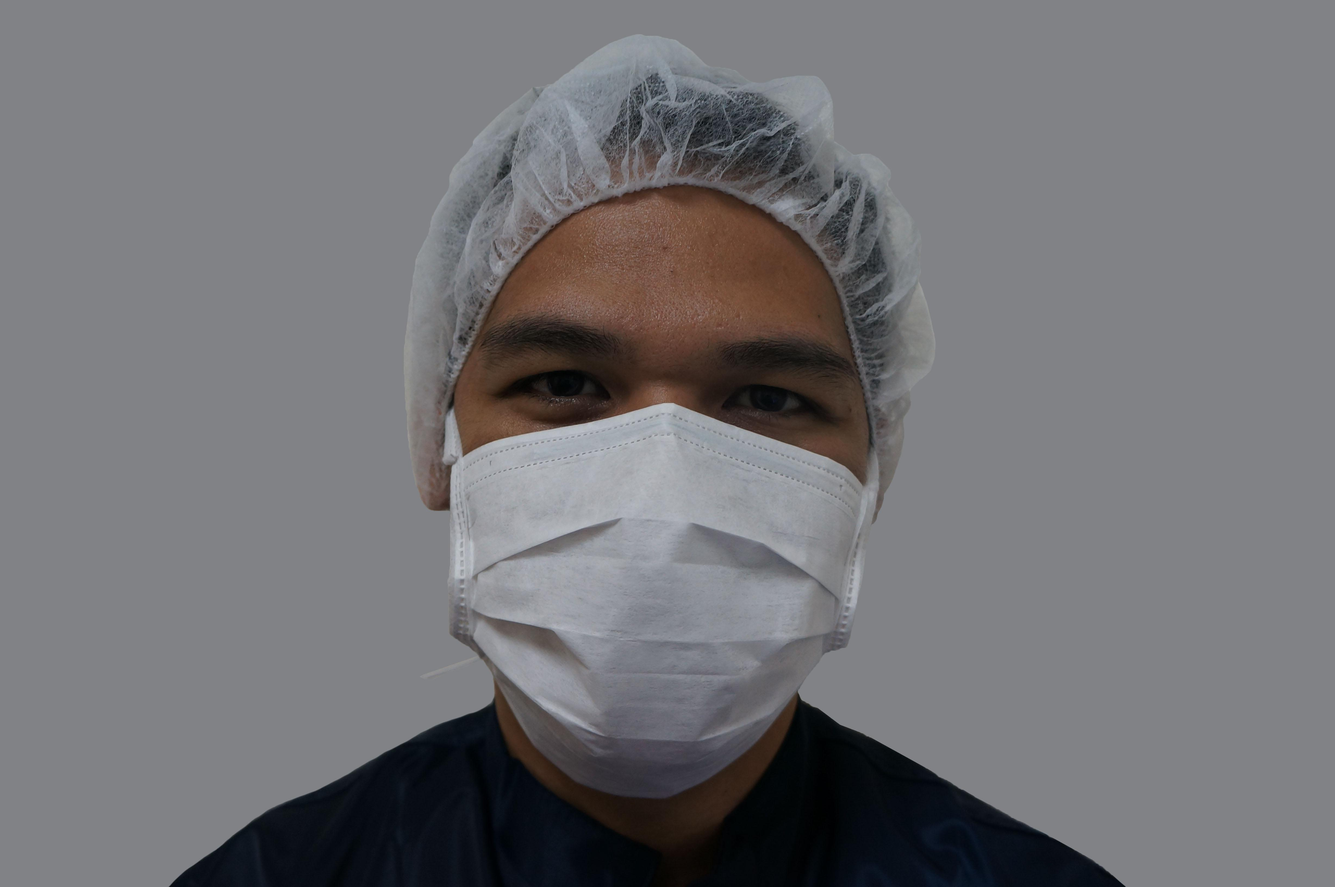Wearing Mask: (365, 52, 1020, 834)
